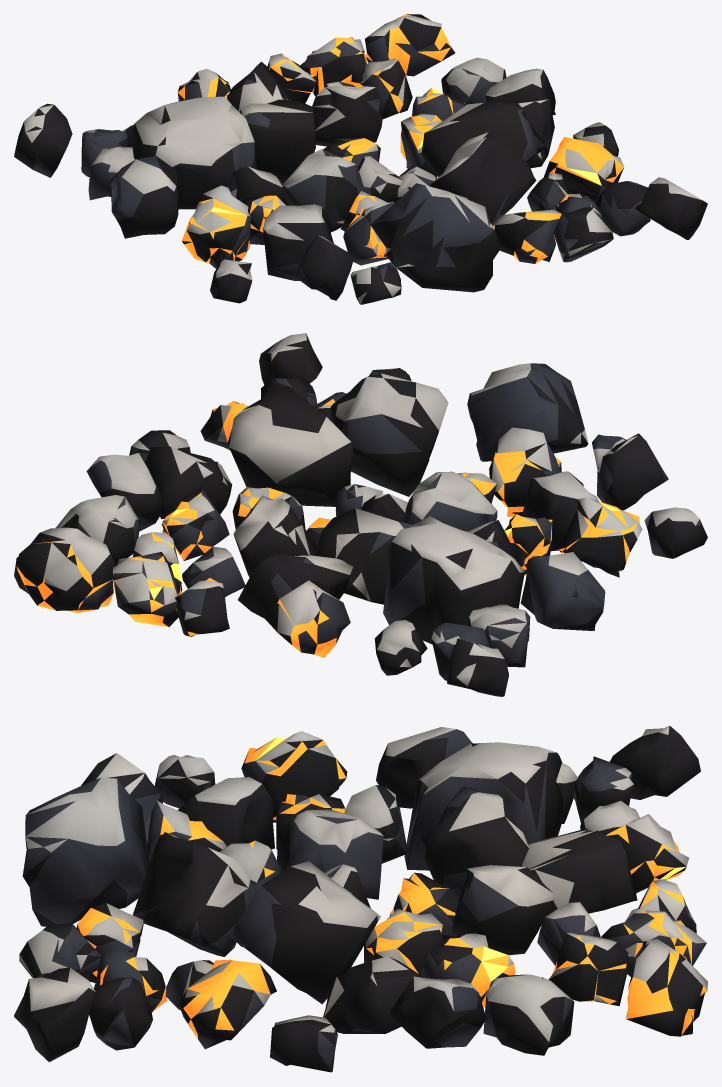
The model's file is ember_coal_bed_b_lod1.glb.
3 views of the same model, one above another, from view 1: azimuth 30°, elevation 25°; view 2: azimuth 150°, elevation 25°; view 3: azimuth 270°, elevation 25° (orthographic). The views are drawn at different scales.
Visible parts, largest first — view 1: ember_coal_bed_b.001; view 2: ember_coal_bed_b.001; view 3: ember_coal_bed_b.001.
Boxes of the visible parts, x1=… form: ember_coal_bed_b.001: x1=14, y1=14, x2=707, y2=304; ember_coal_bed_b.001: x1=14, y1=333, x2=707, y2=696; ember_coal_bed_b.001: x1=14, y1=725, x2=707, y2=1072.
Bounding box in the file's own units: 11.9 × 2.49 × 11.94.
